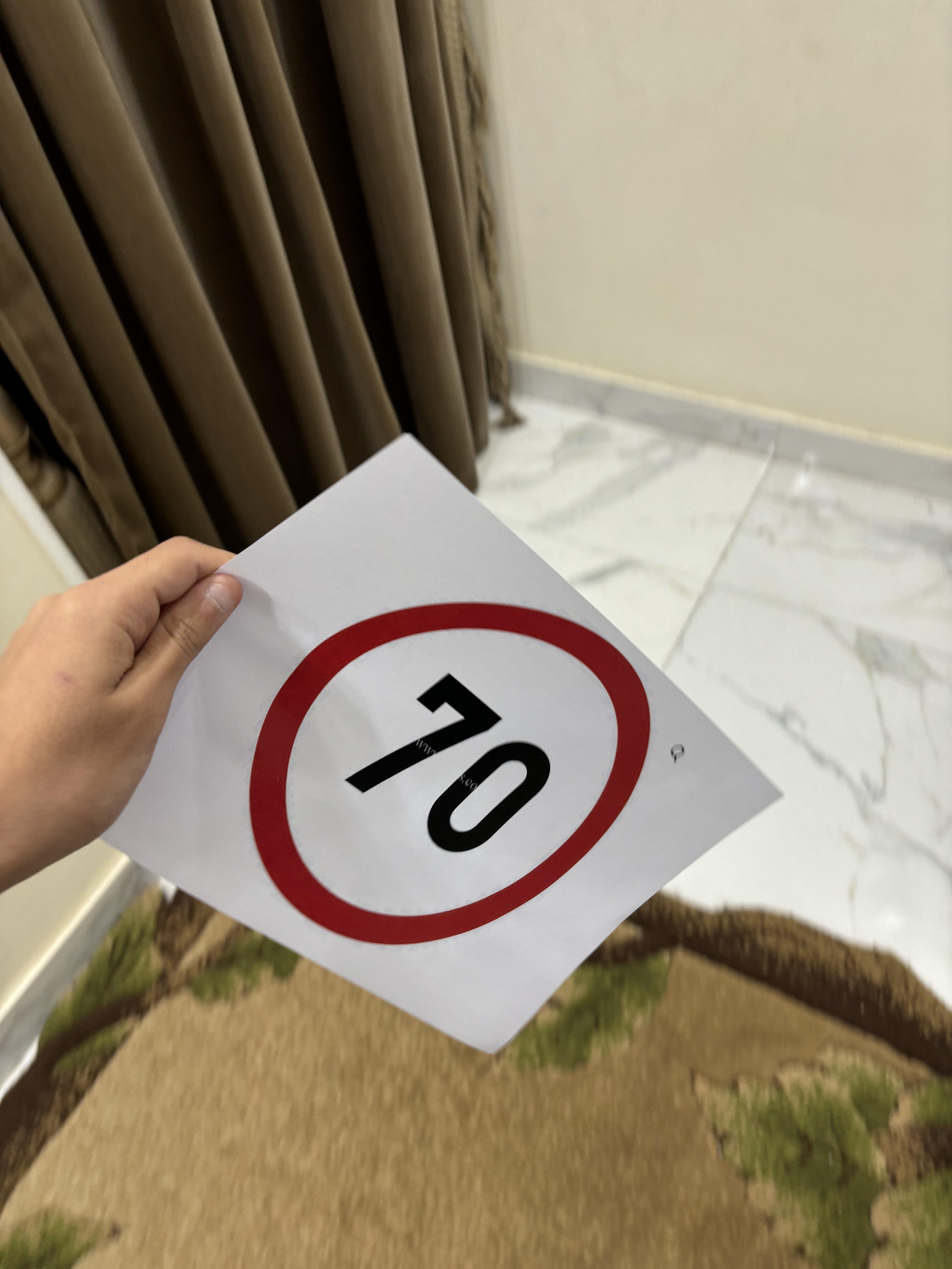70-Speed: (235, 598, 658, 952)
